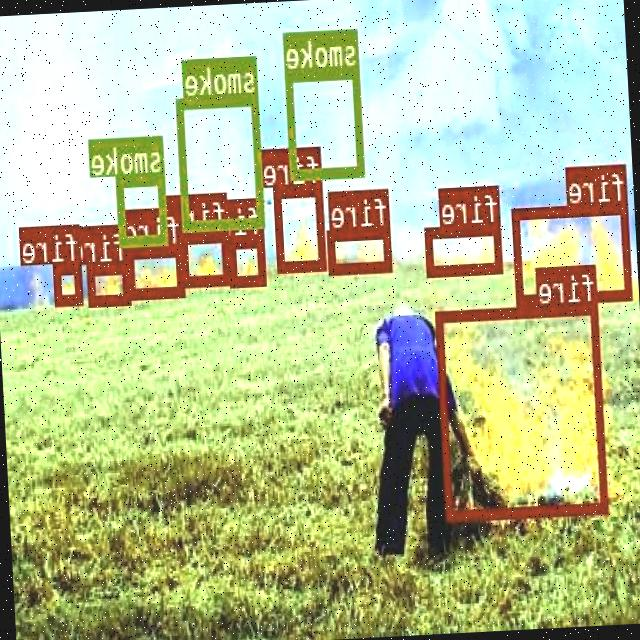fire: (436, 302, 610, 520), (514, 200, 634, 303), (276, 184, 327, 270), (428, 222, 504, 275), (128, 244, 186, 298), (329, 225, 394, 272), (182, 230, 232, 286), (228, 234, 268, 285), (89, 262, 132, 304), (55, 260, 84, 302)
smoke: (178, 93, 266, 230), (287, 65, 367, 178), (118, 172, 170, 245)
